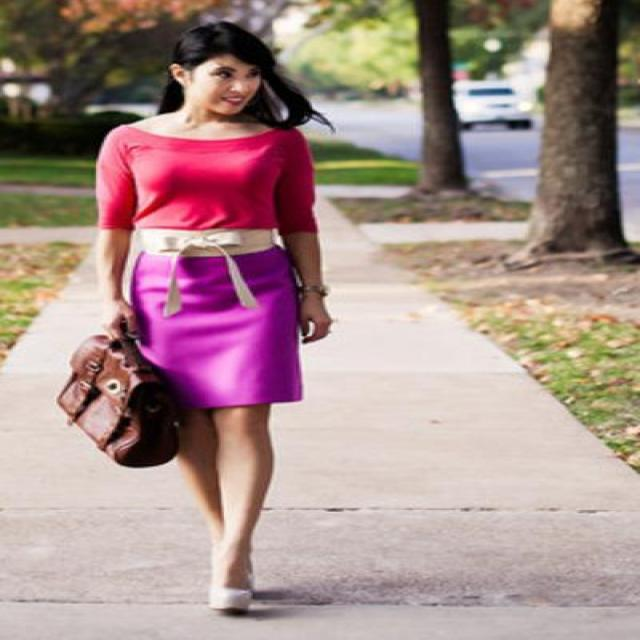bag: (56, 320, 278, 618)
shirt: (94, 123, 316, 242)
skirt: (112, 248, 312, 422)
